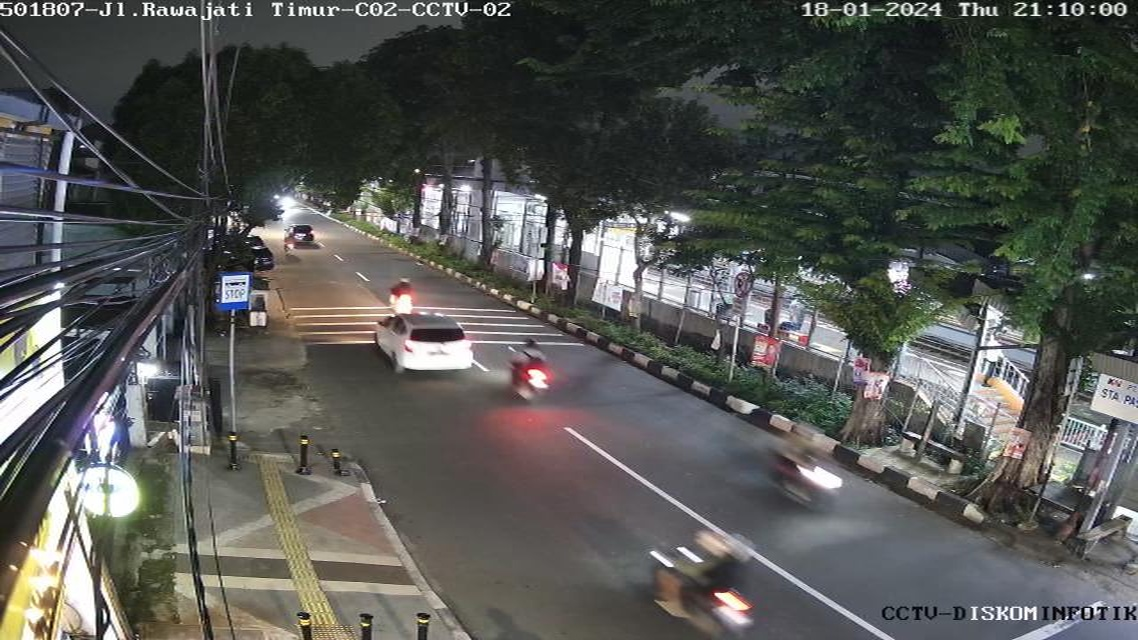Gerobak: (247, 277, 274, 333)
